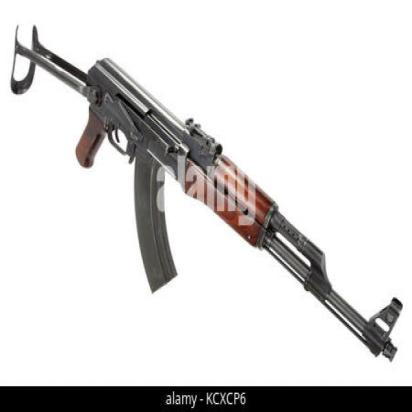Gun: (9, 12, 404, 364)
